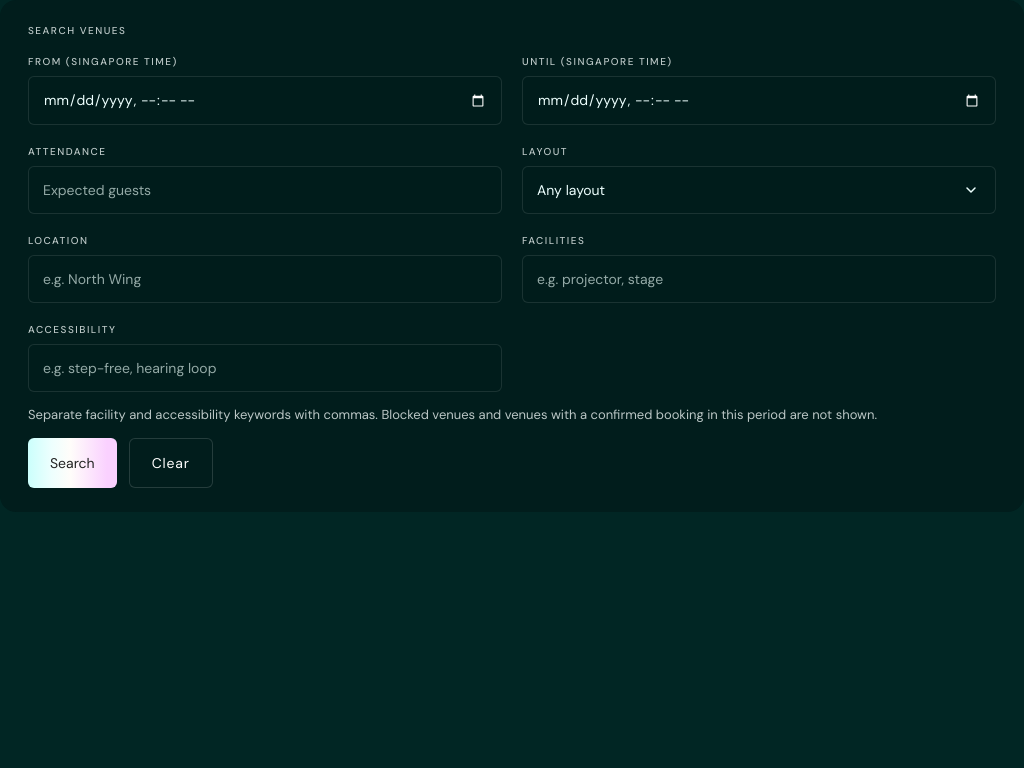
it: [BOUNDARY] [SG2-46:AC4] AC4: when nothing matches it says so and shows the criteria searched
Step 1. Type "2030-06-15T09:00" into the field labelled "From (Singapore time)" → {"x": 265, "y": 100}, box [28,76,502,125]
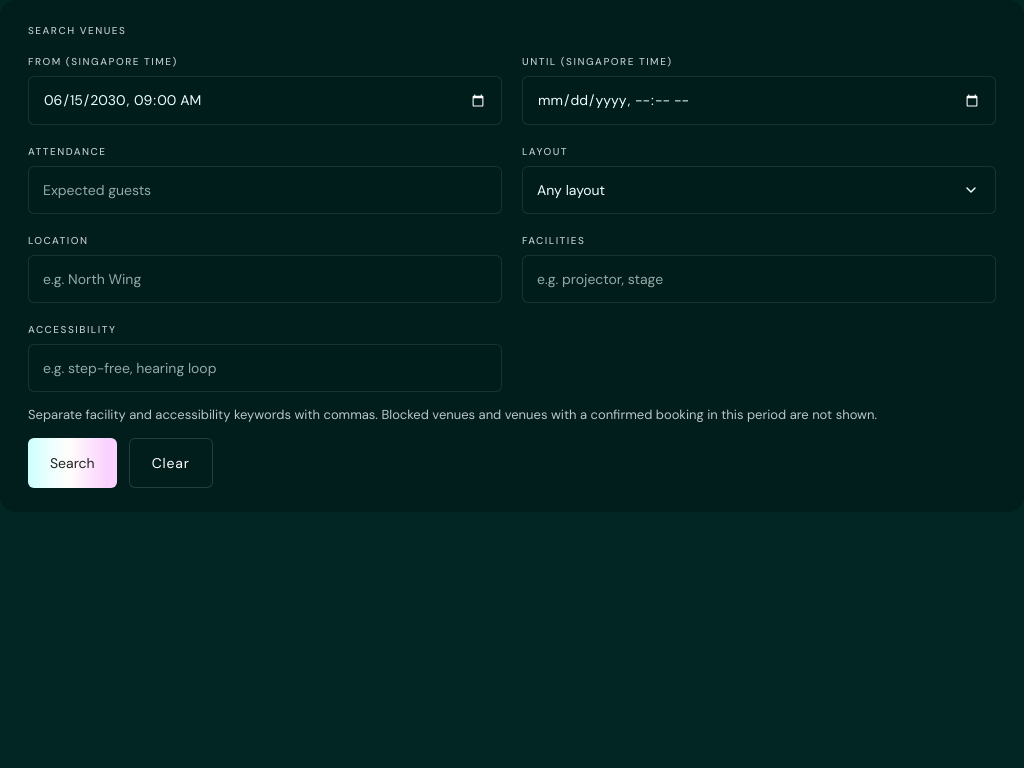
Step 2. Type "2030-06-15T17:00" into the field labelled "Until (Singapore time)" → {"x": 759, "y": 100}, box [522,76,996,125]
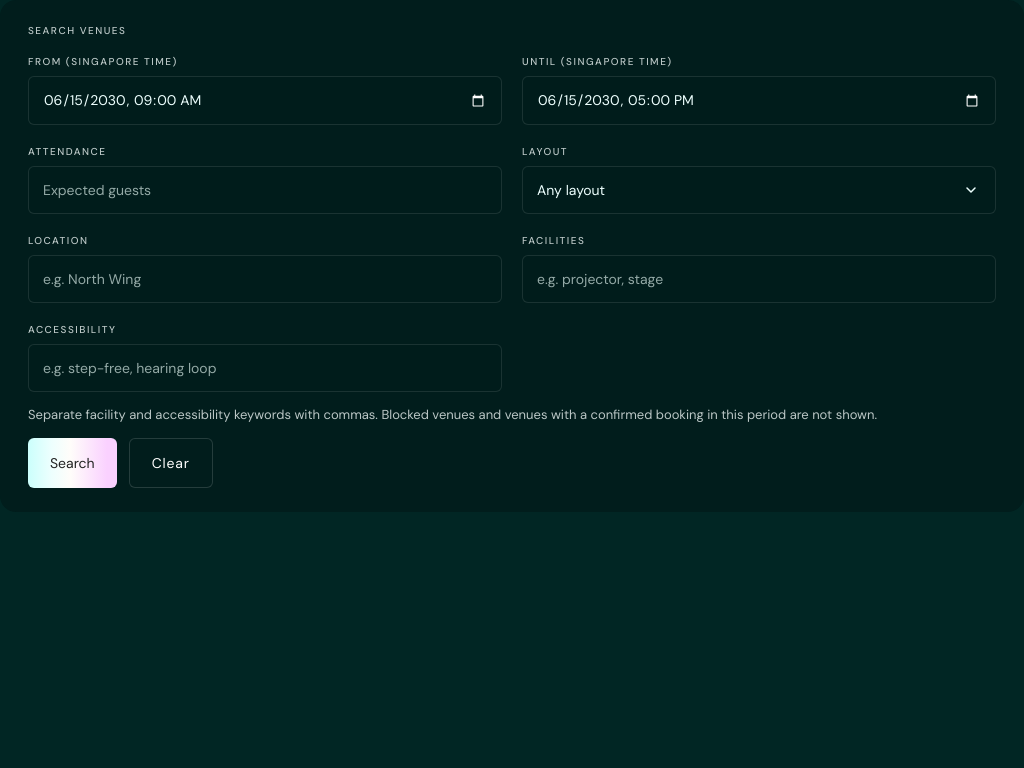
Step 3. Type "500" into the number field labelled "Attendance" → {"x": 265, "y": 190}, box [28,166,502,214]
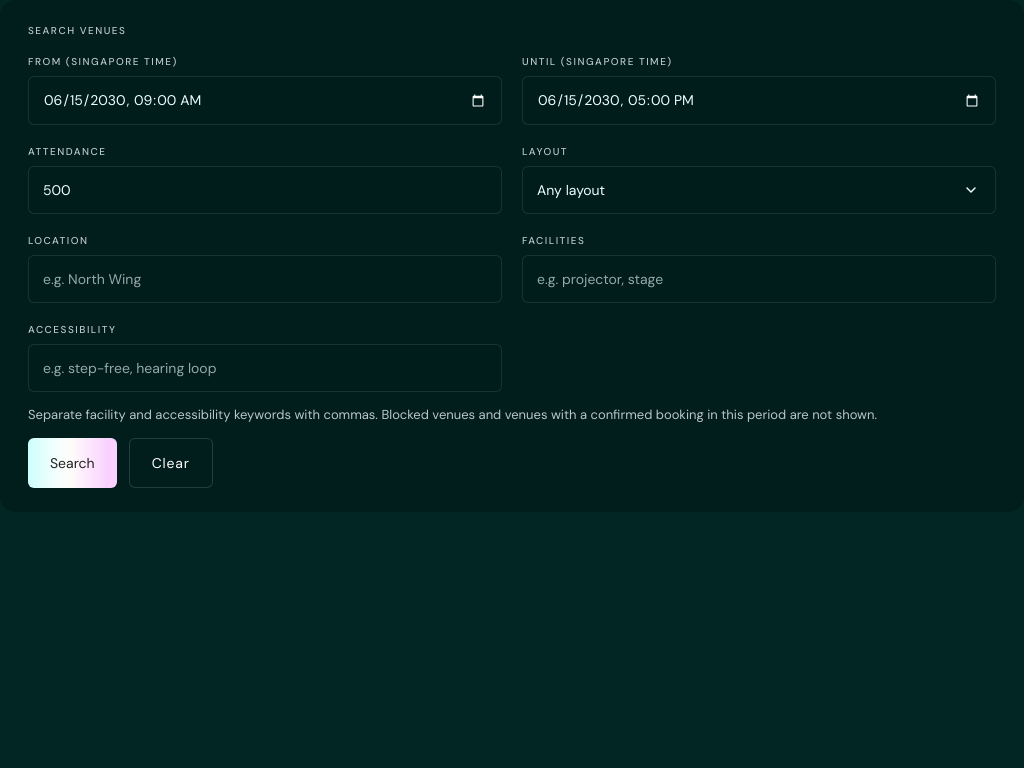
Step 4. Submit the form named "Venue search criteria", box [28,55,996,488]
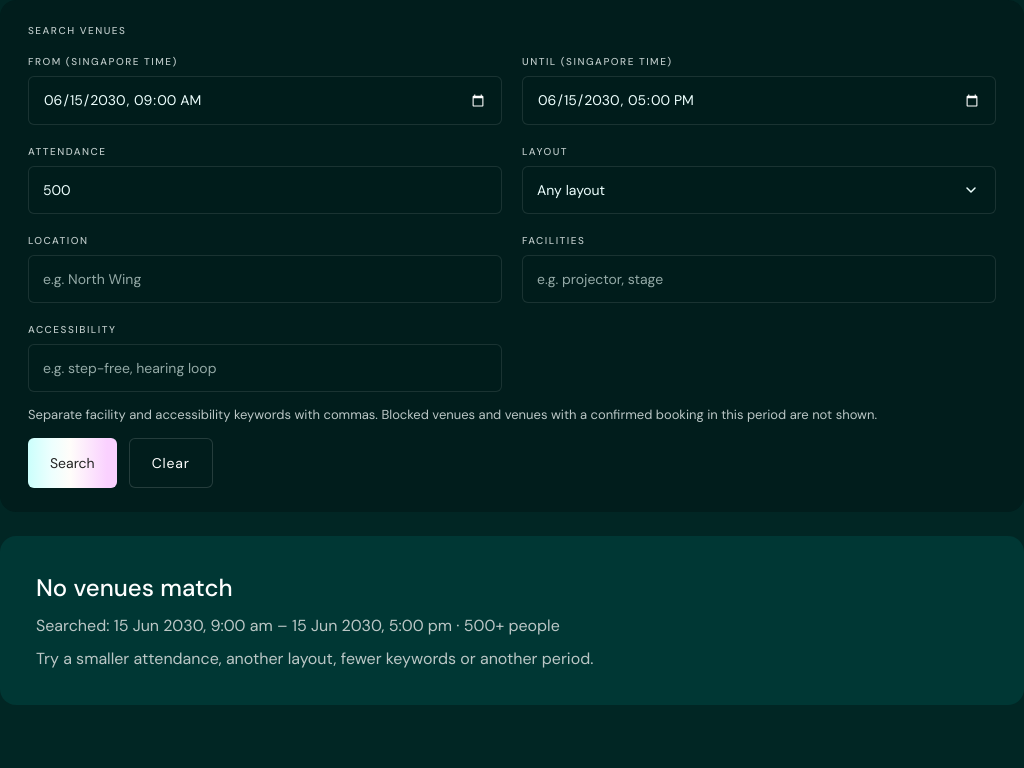
Expected: the heading "No venues match" is shown, [36,572,232,602]
